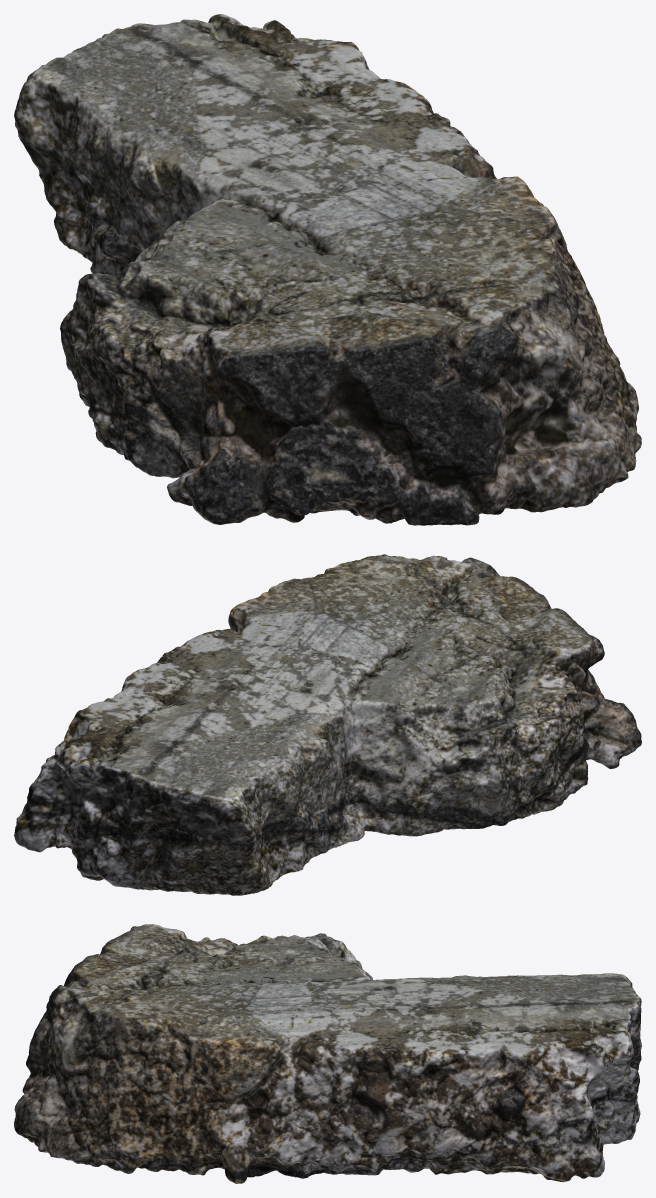
The model's file is antarctic_meteorite_sample_lar_1232632.glb.
The picture shows the model from 3 angles, top to bottom: view 1: azimuth 30°, elevation 25°; view 2: azimuth 150°, elevation 25°; view 3: azimuth 270°, elevation 25°; orthographic projection. The views are drawn at different scales.
Parts seen in each view (by area): view 1: Object_2; view 2: Object_2; view 3: Object_2.
Boxes of the visible parts, x1,y1,x2,y2 form: Object_2: (14,14,641,525); Object_2: (14,554,641,895); Object_2: (14,924,641,1183).
Size of the model in its own units: 0.0388 by 0.0137 by 0.0595.
1 material, 1 textured.
